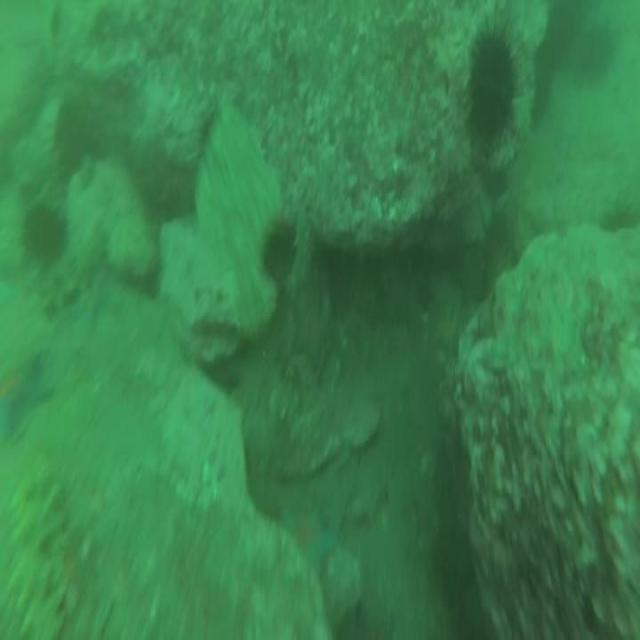echinus: (462, 6, 526, 171), (429, 512, 476, 600), (18, 197, 68, 272), (51, 101, 96, 177), (260, 212, 298, 283), (601, 188, 640, 236)
holothurian: (5, 461, 98, 640), (34, 228, 108, 318)
starfish: (0, 348, 55, 441), (278, 504, 340, 582)
